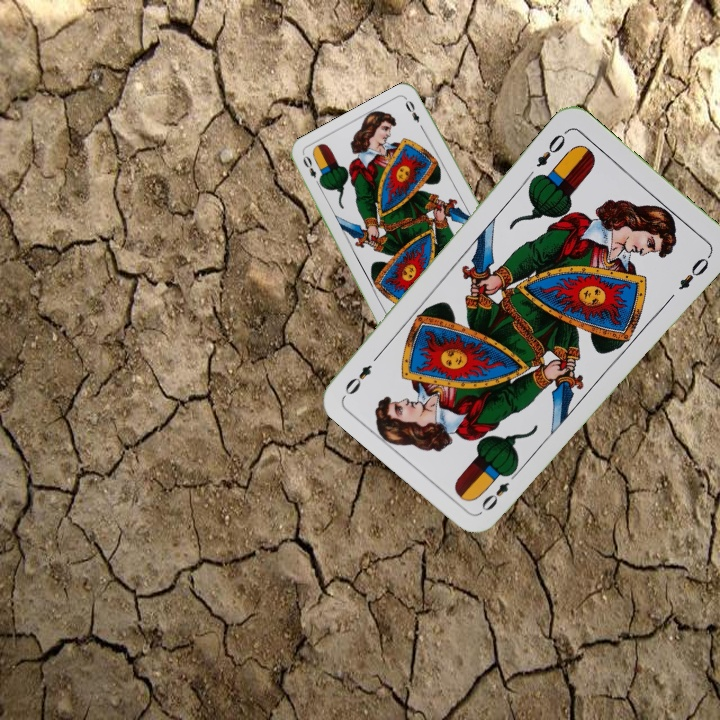EO: (477, 465, 522, 514), (532, 126, 571, 170), (299, 152, 324, 190)
